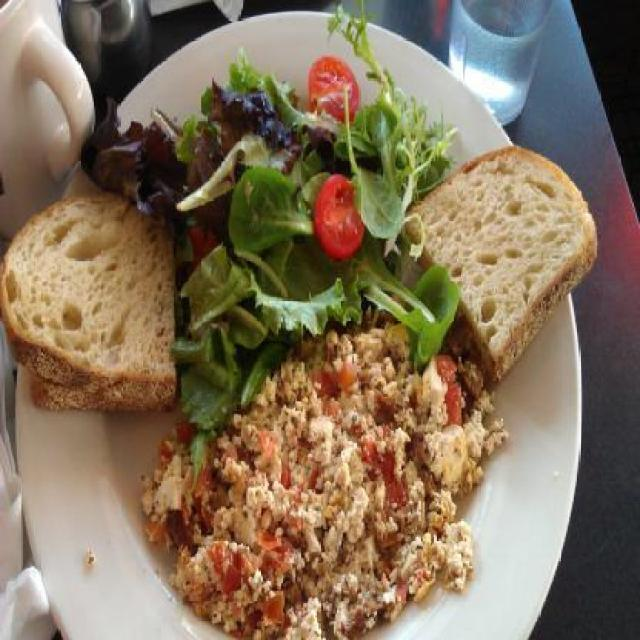Sandwich: (398, 139, 598, 383), (0, 181, 178, 416)
